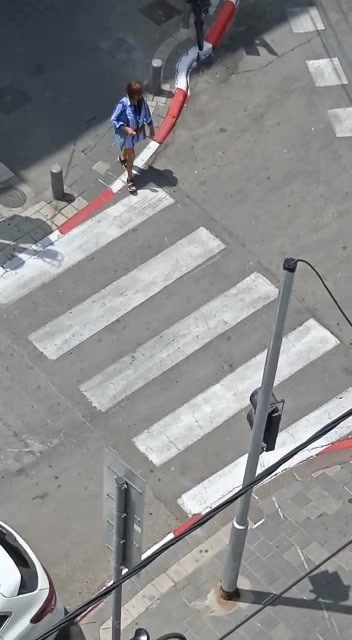crosswalk: (11, 192, 339, 491)
person: (99, 64, 166, 207)
